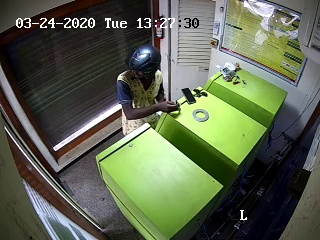helmet: (124, 44, 162, 85)
